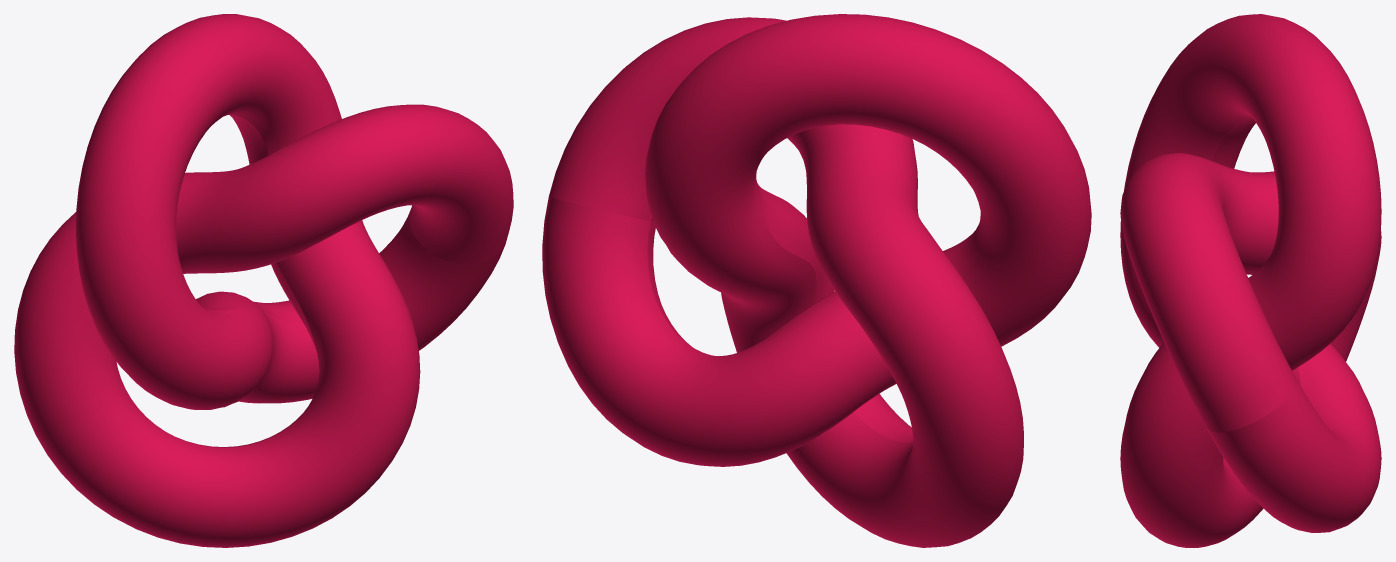
File: nudo-toroidal.glb
3 renders of one model, left to right at view 1: azimuth 30°, elevation 25°; view 2: azimuth 150°, elevation 25°; view 3: azimuth 270°, elevation 25°, orthographic. The views are drawn at different scales.
Visible parts, largest first — view 1: nudo-toroidal; view 2: nudo-toroidal; view 3: nudo-toroidal.
Boxes of the visible parts, x1,y1,x2,y2 form: nudo-toroidal: (14, 14, 513, 547); nudo-toroidal: (542, 14, 1091, 547); nudo-toroidal: (1120, 14, 1381, 547).
Bounding box in the file's own units: 0.1998 × 0.2086 × 0.099.
